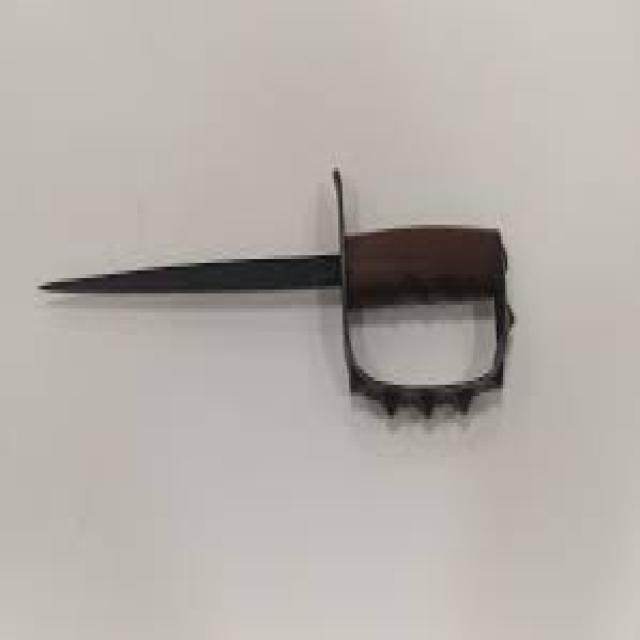Gun: (29, 150, 541, 482)
